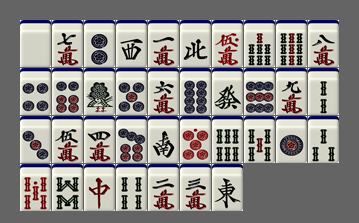0m: (212, 20, 243, 67)
0p: (180, 116, 211, 163)
0s: (20, 164, 51, 211)
1m: (148, 20, 179, 67)
1p: (276, 116, 307, 163)
1s: (84, 68, 115, 115)
1z: (212, 164, 243, 211)
2m: (148, 164, 179, 211)
2p: (84, 20, 115, 67)
2s: (308, 68, 339, 115)
2z: (148, 116, 179, 163)
3m: (180, 164, 211, 211)
3p: (20, 116, 51, 163)
3s: (308, 116, 339, 163)
3z: (116, 20, 147, 67)
4m: (84, 116, 115, 163)
4p: (20, 68, 51, 115)
4s: (116, 164, 147, 211)
4z: (180, 20, 211, 67)
5m: (52, 116, 83, 163)
5p: (116, 68, 147, 115)
5s: (244, 116, 275, 163)
5z: (20, 20, 51, 67)
6m: (148, 68, 179, 115)
6p: (52, 68, 83, 115)
6s: (212, 116, 243, 163)
6z: (212, 68, 243, 115)
7m: (52, 20, 83, 67)
7p: (116, 116, 147, 163)
7s: (244, 20, 275, 67)
7z: (84, 164, 115, 211)
8m: (308, 20, 339, 67)
8p: (180, 68, 211, 115)
8s: (52, 164, 83, 211)
9m: (276, 68, 307, 115)
9p: (244, 68, 275, 115)
9s: (276, 20, 307, 67)
